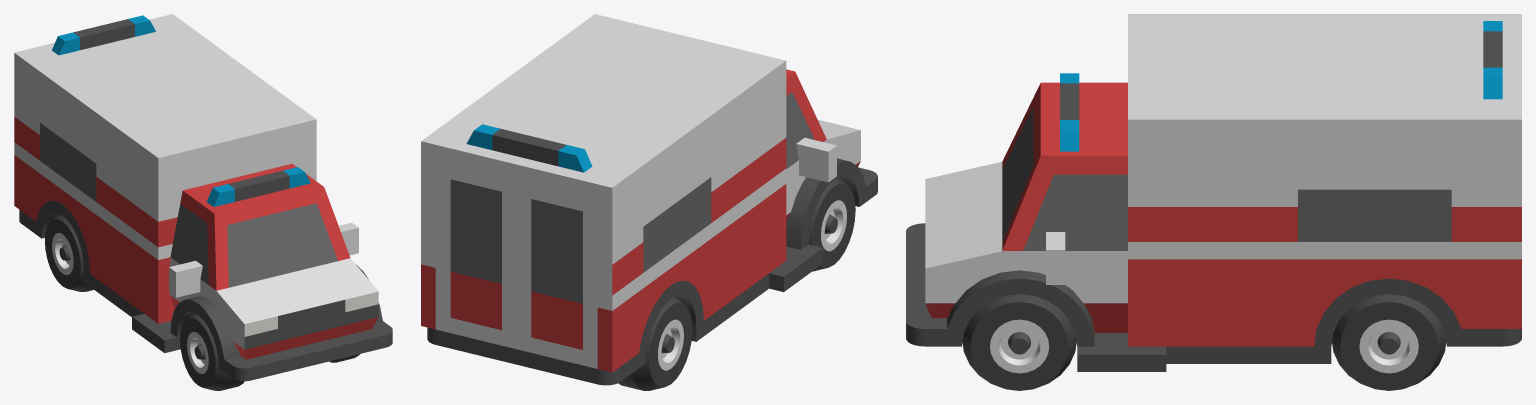
Rendered from 59 Ambulance.fbx.
3 renders of one model, left to right at view 1: azimuth 30°, elevation 25°; view 2: azimuth 150°, elevation 25°; view 3: azimuth 270°, elevation 25°, orthographic. The views are drawn at different scales.
Parts seen in each view (by area): view 1: Ambulance; view 2: Ambulance; view 3: Ambulance.
Boxes of the visible parts, x1=… form: Ambulance: x1=14, y1=14, x2=392, y2=390; Ambulance: x1=421, y1=14, x2=877, y2=390; Ambulance: x1=906, y1=14, x2=1521, y2=390.
Size of the model in its own units: 39.65 by 44.94 by 84.59.
